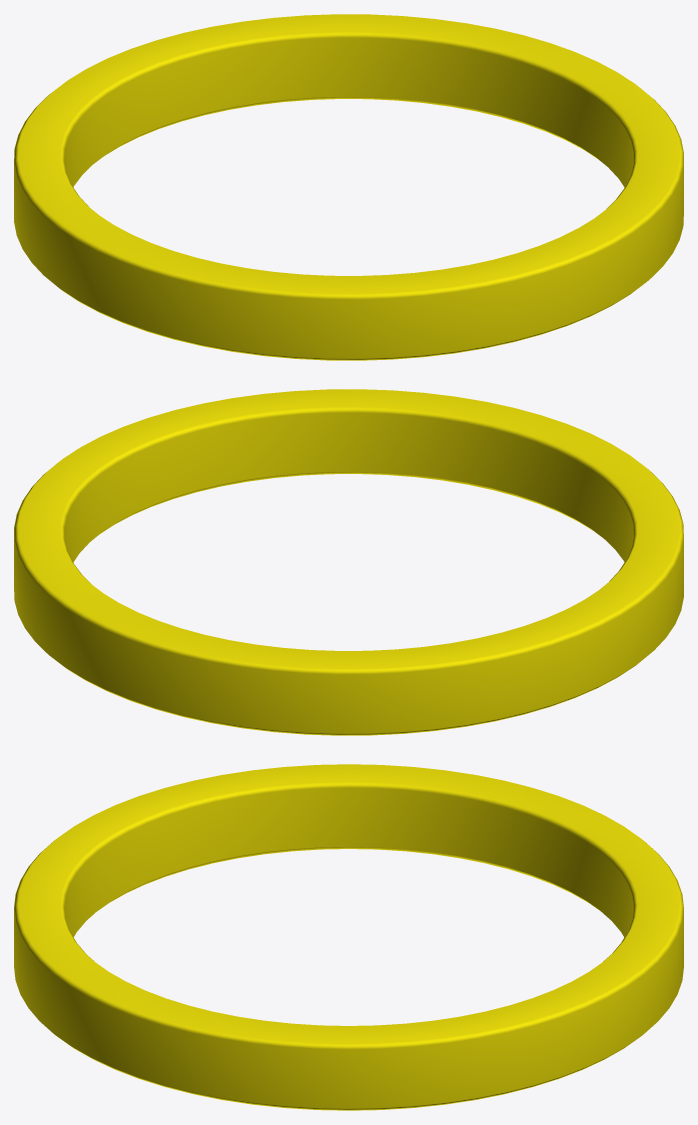
3 views of the same model, one above another, from view 1: azimuth 30°, elevation 25°; view 2: azimuth 150°, elevation 25°; view 3: azimuth 270°, elevation 25° (orthographic).
Visible parts, largest first — view 1: seal_body; view 2: seal_body; view 3: seal_body.
Part boxes in pixels (box(x1,y1,x2,y2)): seal_body: box(14, 14, 683, 360); seal_body: box(14, 389, 683, 735); seal_body: box(14, 764, 683, 1110).
Bounding box in the file's own units: 0.086 × 0.0095 × 0.086.
